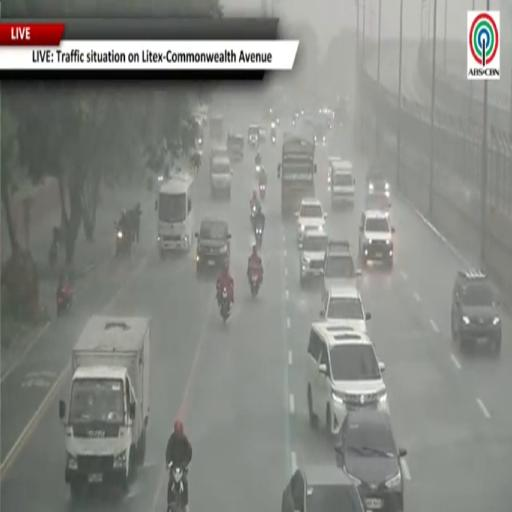car: (307, 322, 388, 434), (336, 410, 406, 511), (451, 269, 501, 356), (282, 464, 364, 511), (322, 240, 361, 302), (320, 286, 371, 331), (359, 211, 394, 267), (195, 219, 230, 273), (296, 198, 326, 248), (300, 232, 328, 284), (331, 160, 355, 207), (367, 167, 390, 199), (365, 192, 390, 214), (209, 143, 229, 167), (327, 156, 342, 187), (227, 135, 244, 162), (313, 121, 326, 145), (248, 124, 260, 147), (259, 126, 266, 142)
motorcycle: (167, 463, 185, 511), (116, 226, 131, 257), (57, 288, 73, 316), (220, 287, 230, 323), (249, 269, 260, 297), (48, 238, 58, 268), (255, 224, 263, 249), (251, 204, 257, 226), (259, 184, 266, 200), (255, 165, 261, 174), (271, 135, 276, 145)
truck: (59, 316, 150, 498), (278, 131, 316, 218), (156, 172, 194, 258), (209, 116, 225, 143)
